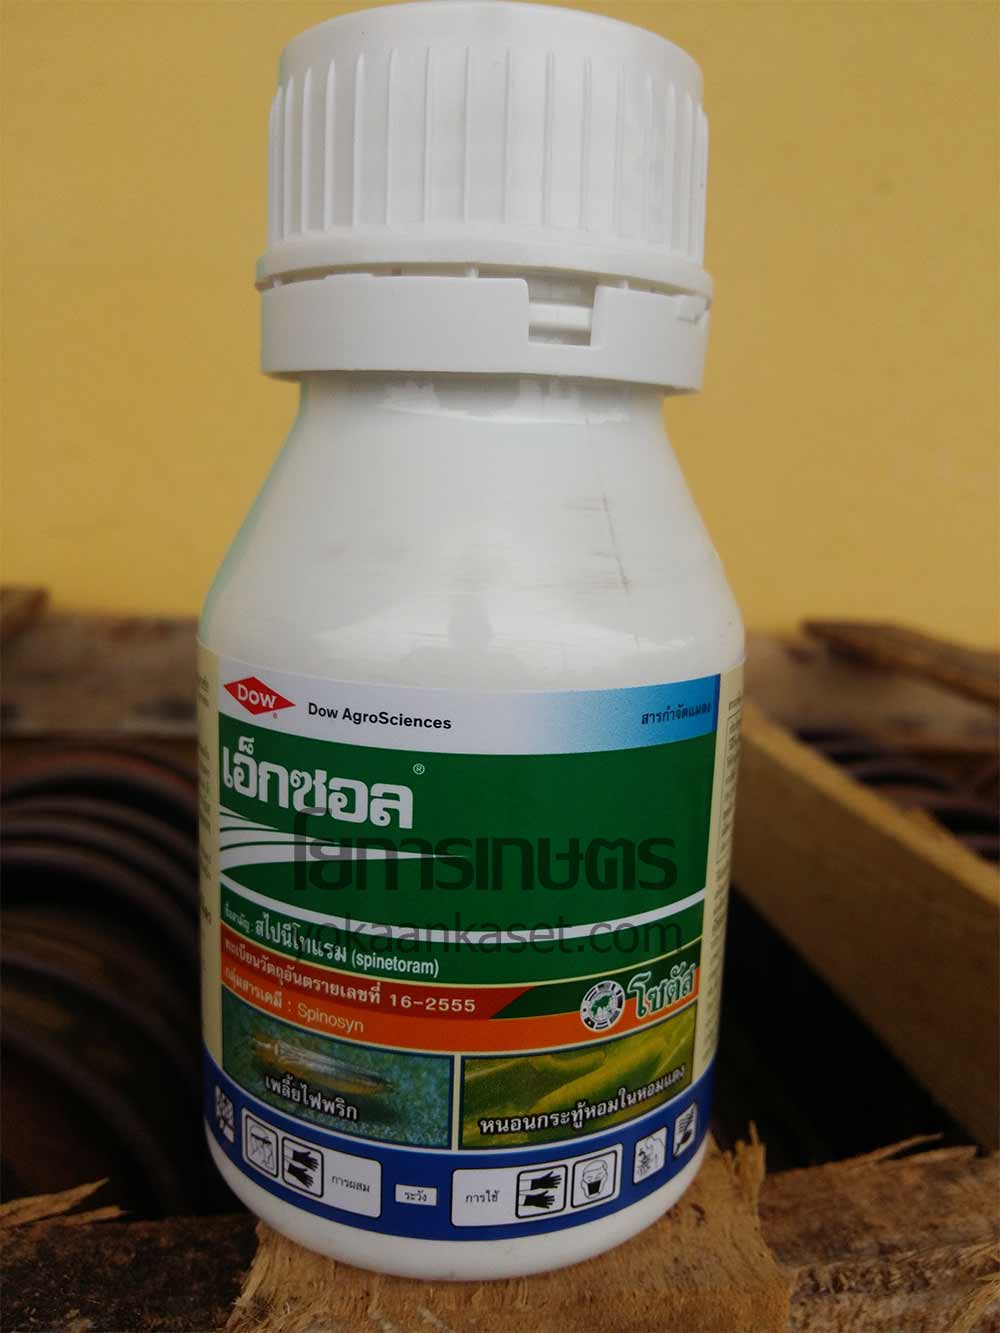Insecticide: (169, 4, 771, 1299)
